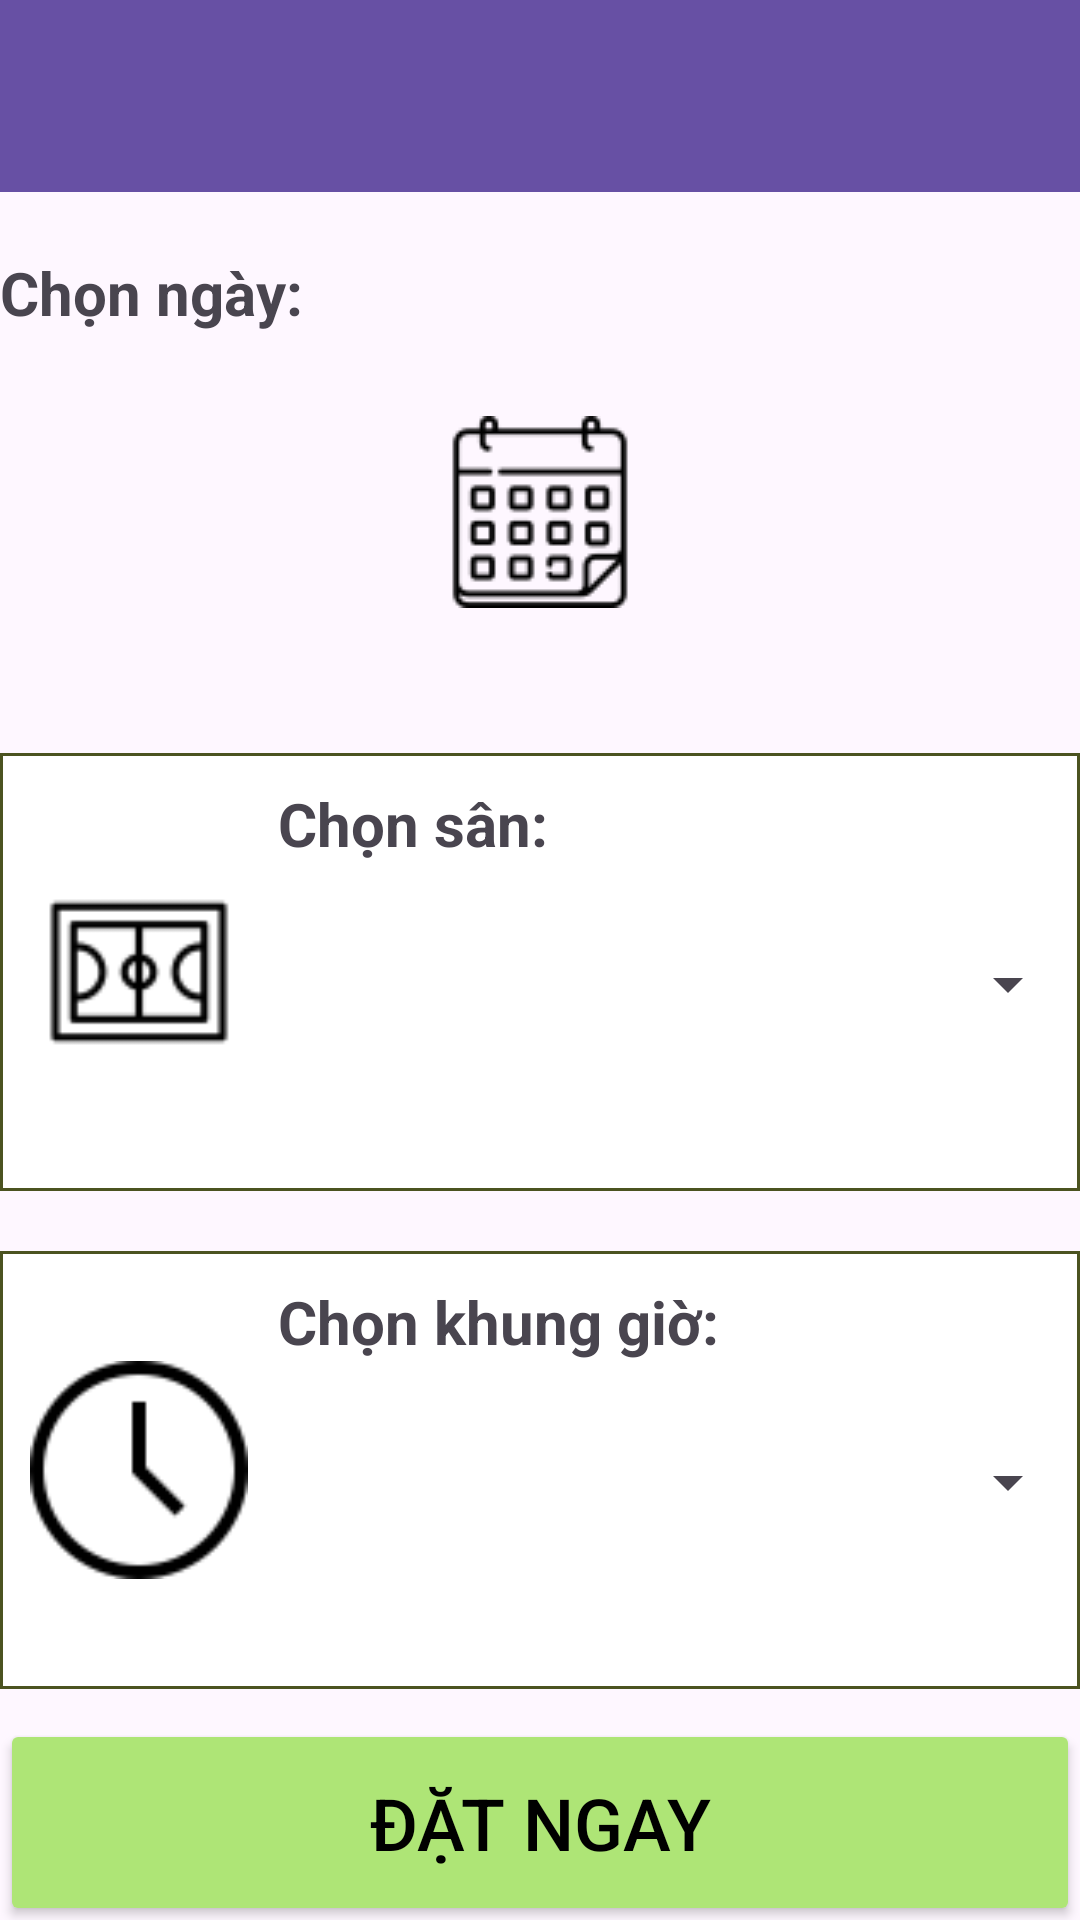

Point at icon controls on the screen. Image size 1080*1920, points as (x=x, y=y).
calendar: (x=540, y=512)
clock: (x=139, y=1470)
pitch: (x=139, y=972)
